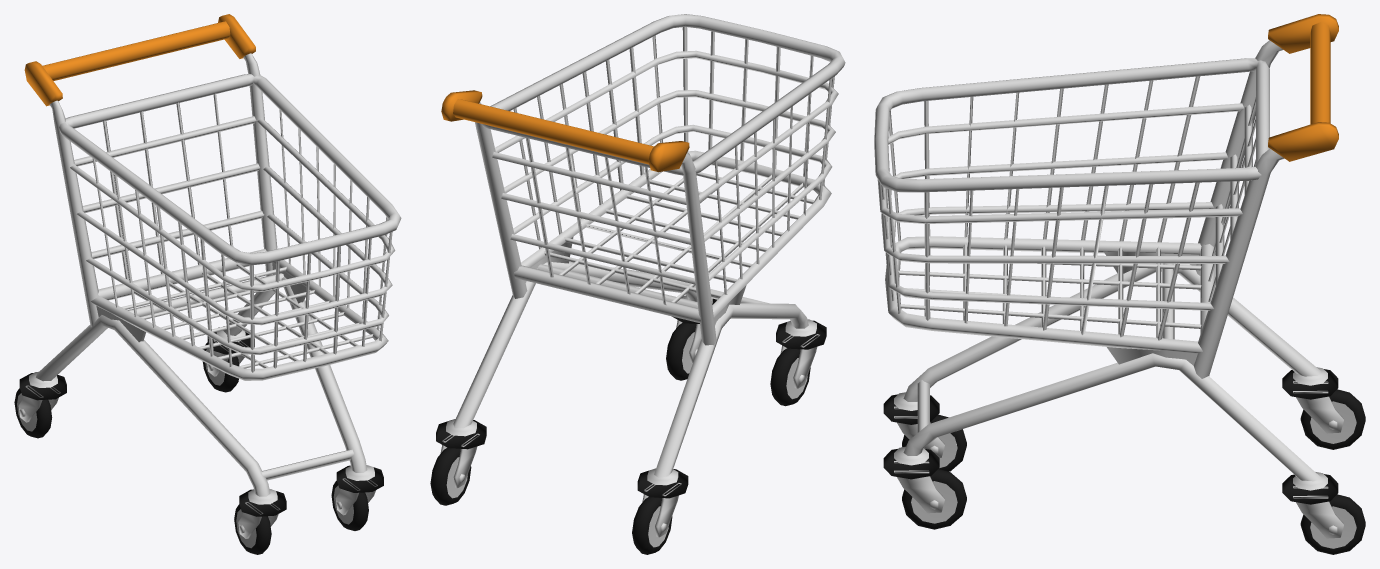
The model's file is cart-transformed.glb.
3 renders of one model, left to right at view 1: azimuth 30°, elevation 25°; view 2: azimuth 150°, elevation 25°; view 3: azimuth 270°, elevation 25°, orthographic. The views are drawn at different scales.
Parts seen in each view (by area): view 1: Object_6, Object_5, Object_4; view 2: Object_6, Object_4, Object_5; view 3: Object_6, Object_4, Object_5.
Boxes of the visible parts, x1,y1,x2,y2 form: Object_6: [17, 53, 401, 548]; Object_5: [24, 14, 255, 106]; Object_4: [14, 327, 383, 554]; Object_6: [440, 14, 845, 547]; Object_4: [430, 298, 826, 554]; Object_5: [441, 90, 689, 172]; Object_6: [874, 40, 1356, 548]; Object_4: [883, 369, 1365, 554]; Object_5: [1268, 14, 1338, 161].
Size of the model in its own units: 0.5602 by 0.8763 by 0.9057.
